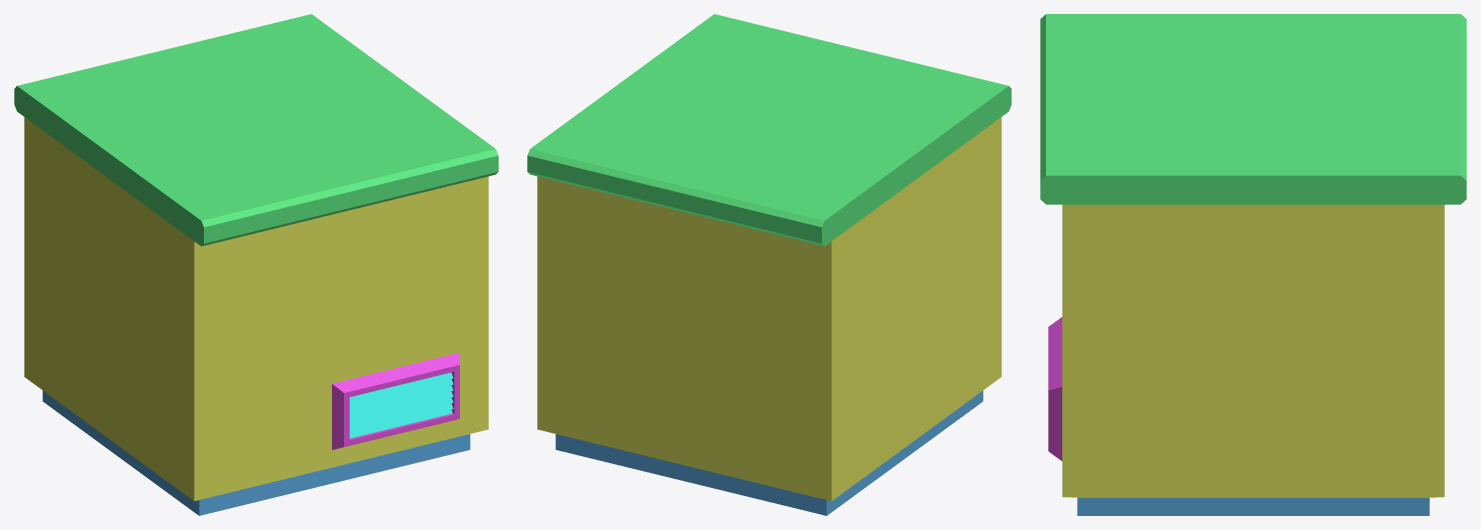
File: Desk_07_C.fbx
3 renders of one model, left to right at view 1: azimuth 30°, elevation 25°; view 2: azimuth 150°, elevation 25°; view 3: azimuth 270°, elevation 25°, orthographic. The views are drawn at different scales.
Visible parts, largest first — view 1: Desk_07_C; view 2: Desk_07_C; view 3: Desk_07_C.
Boxes of the visible parts, x1,y1,x2,y2 form: Desk_07_C: [14, 14, 498, 515]; Desk_07_C: [527, 14, 1011, 515]; Desk_07_C: [1040, 14, 1466, 515].
Size of the model in its own units: 91.44 by 91.44 by 102.
